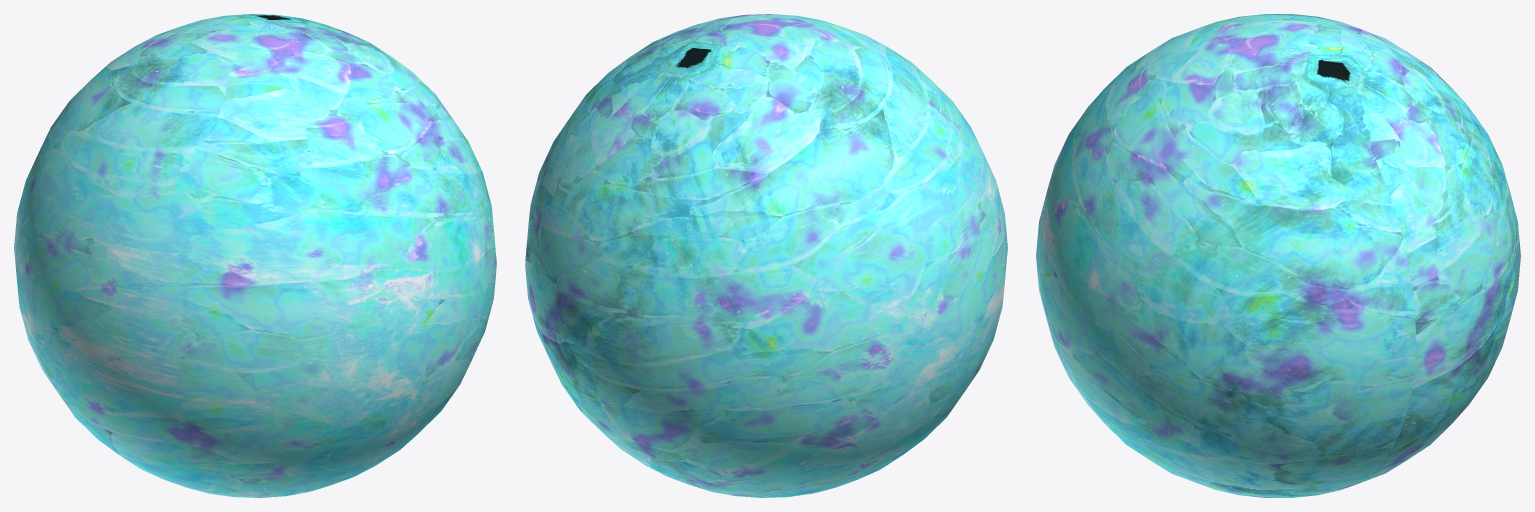
Rendered from Surpv2.glb.
The picture shows the model from 3 angles, left to right: view 1: azimuth 30°, elevation 25°; view 2: azimuth 150°, elevation 25°; view 3: azimuth 270°, elevation 25°; orthographic projection.
Visible parts, largest first — view 1: Surp; view 2: Surp; view 3: Surp.
Part boxes in pixels (left/top/right/bottom): Surp: left=14, top=14, right=496, bottom=497; Surp: left=525, top=14, right=1007, bottom=497; Surp: left=1036, top=14, right=1520, bottom=497.
Size of the model in its own units: 1.99 by 2 by 2.
1 material, 1 textured.
